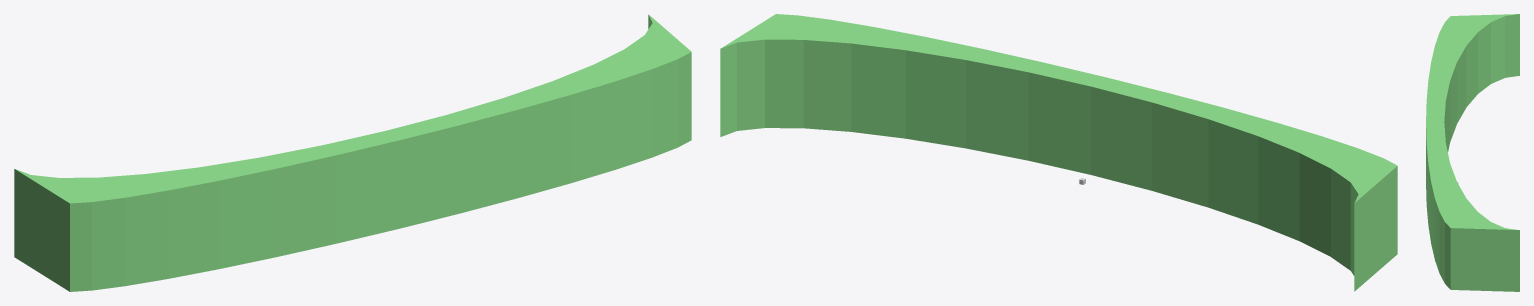
Rendered from dam2.gltf.
The picture shows the model from 3 angles, left to right: view 1: azimuth 30°, elevation 25°; view 2: azimuth 150°, elevation 25°; view 3: azimuth 270°, elevation 25°; orthographic projection. The views are drawn at different scales.
Parts seen in each view (by area): view 1: Cylinder; view 2: Cylinder; view 3: Cylinder.
Boxes of the visible parts, <box> form: Cylinder: <box>14,14,691,291</box>; Cylinder: <box>720,14,1397,291</box>; Cylinder: <box>1426,14,1519,291</box>.
Size of the model in its own units: 300 by 41 by 55.12.
